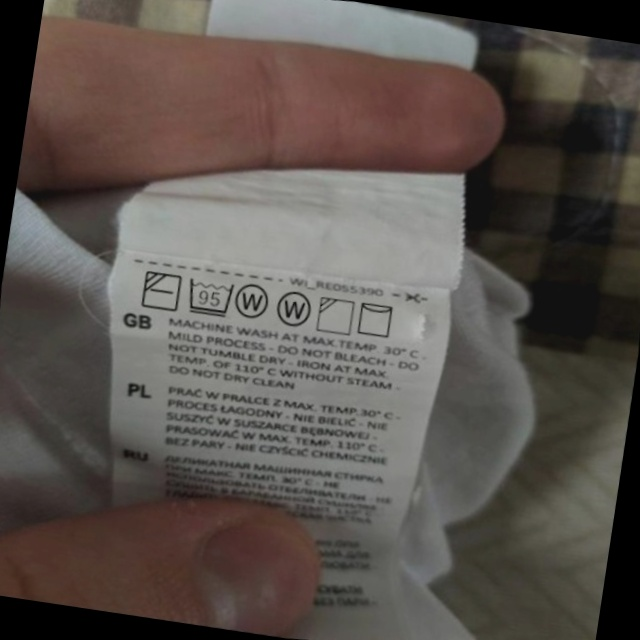95C: (181, 271, 240, 323)
dry_flat_in_shade: (135, 264, 187, 317)
line_dry: (351, 294, 401, 344)
shade_dry: (311, 291, 361, 341)
wet_clean: (230, 275, 277, 325), (271, 285, 318, 334)
